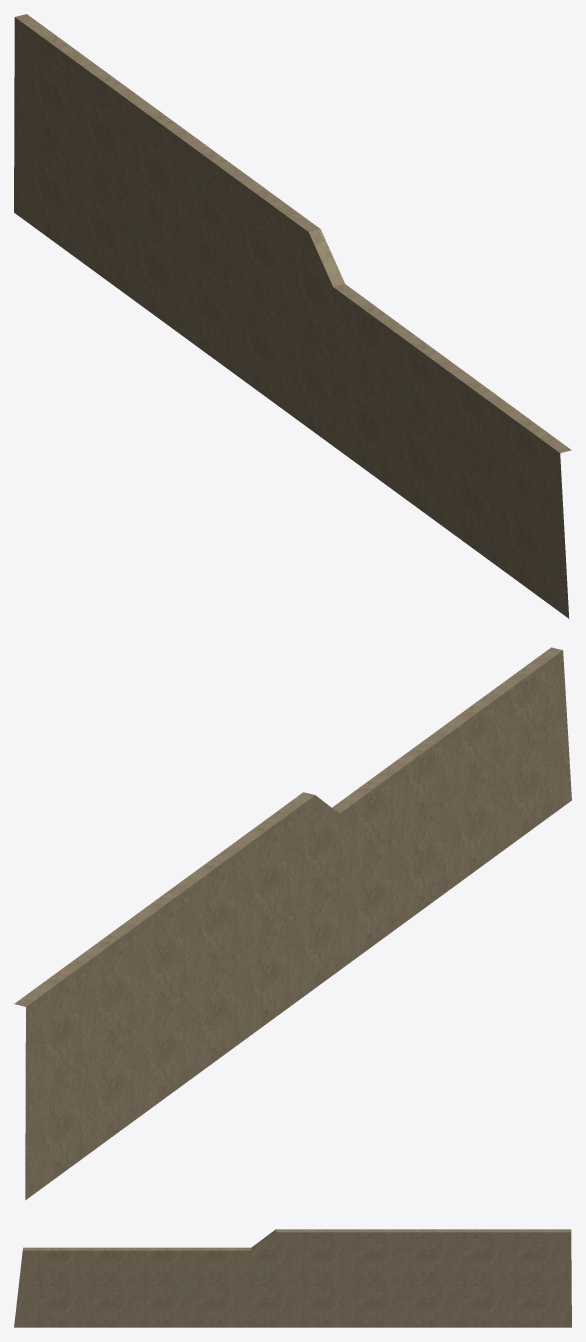
Rendered from Ground25_Terrain_LostTemple_001.FBX.
3 views of the same model, one above another, from view 1: azimuth 30°, elevation 25°; view 2: azimuth 150°, elevation 25°; view 3: azimuth 270°, elevation 25° (orthographic). The views are drawn at different scales.
Parts seen in each view (by area): view 1: Ground25_Terrain_LostTemple_001; view 2: Ground25_Terrain_LostTemple_001; view 3: Ground25_Terrain_LostTemple_001.
Boxes of the visible parts, x1,y1,x2,y2 form: Ground25_Terrain_LostTemple_001: (14,14,571,618); Ground25_Terrain_LostTemple_001: (14,647,571,1200); Ground25_Terrain_LostTemple_001: (14,1229,571,1327).
Size of the model in its own units: 68.37 by 1055 by 5412.
Materials: 1 (1 with a texture image).
